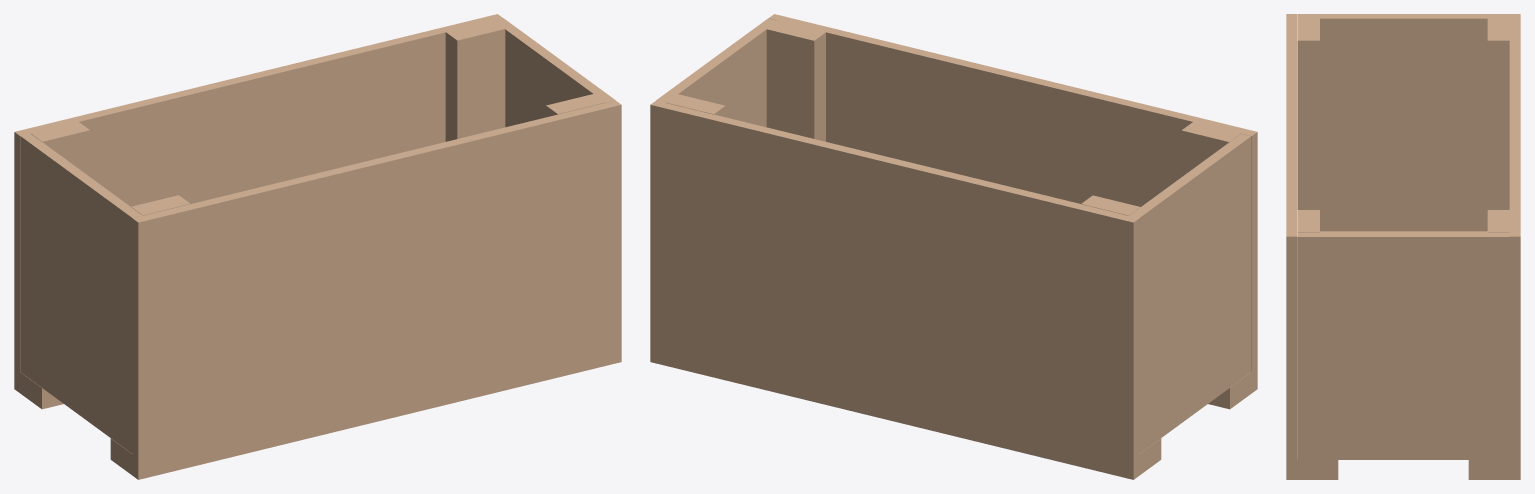
File: natural.glb
The picture shows the model from 3 angles, left to right: view 1: azimuth 30°, elevation 25°; view 2: azimuth 150°, elevation 25°; view 3: azimuth 270°, elevation 25°; orthographic projection. The views are drawn at different scales.
Parts seen in each view (by area): view 1: long_side.6, long_side.2, long_side.4, long_side.5, skid.2, short_side.5, long_side.3, short_side.3, short_side.1, corner_post.2, short_side.6, corner_post.1 (+2 smaller); view 2: long_side.5, long_side.1, long_side.3, long_side.6, skid.1, short_side.5, long_side.4, short_side.3, short_side.1, corner_post.4, short_side.6, corner_post.3 (+2 smaller); view 3: short_side.6, short_side.4, short_side.2, short_side.5, short_side.3, short_side.1, corner_post.1, corner_post.3, long_side.5, long_side.6, skid.2, skid.1 (+7 smaller).
Boxes of the visible parts, x1,y1,x2,y2 form: long_side.6: (132, 100, 621, 301); long_side.2: (132, 262, 621, 458); long_side.4: (132, 183, 621, 379); long_side.5: (14, 14, 502, 214); skid.2: (110, 341, 621, 479); short_side.5: (20, 133, 142, 296); long_side.3: (14, 111, 445, 293); short_side.3: (20, 215, 132, 375); short_side.1: (20, 294, 132, 453); corner_post.2: (445, 20, 505, 141); short_side.6: (494, 18, 615, 122); corner_post.1: (31, 121, 90, 176); long_side.5: (650, 100, 1139, 301); long_side.1: (650, 262, 1139, 458); long_side.3: (650, 183, 1139, 379); long_side.6: (768, 14, 1257, 214); skid.1: (650, 341, 1161, 479); short_side.5: (1129, 134, 1251, 296); long_side.4: (826, 111, 1257, 293); short_side.3: (1139, 215, 1251, 375); short_side.1: (1139, 294, 1251, 453); corner_post.4: (766, 20, 825, 141); short_side.6: (656, 18, 777, 122); corner_post.3: (1181, 122, 1240, 176); short_side.6: (1297, 232, 1509, 311); short_side.4: (1297, 311, 1509, 385); short_side.2: (1297, 385, 1509, 459); short_side.5: (1297, 14, 1509, 92); short_side.3: (1320, 93, 1487, 167); short_side.1: (1320, 167, 1487, 231); corner_post.1: (1487, 18, 1509, 209); corner_post.3: (1297, 18, 1319, 209); long_side.5: (1509, 14, 1520, 310); long_side.6: (1286, 14, 1297, 310); skid.2: (1286, 237, 1338, 479); skid.1: (1468, 459, 1520, 479).
Bounding box in the file's own units: 0.9005 × 0.4585 × 0.4.
